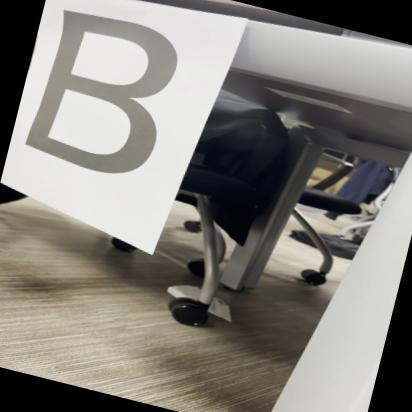seat: (8, 0, 203, 192)
